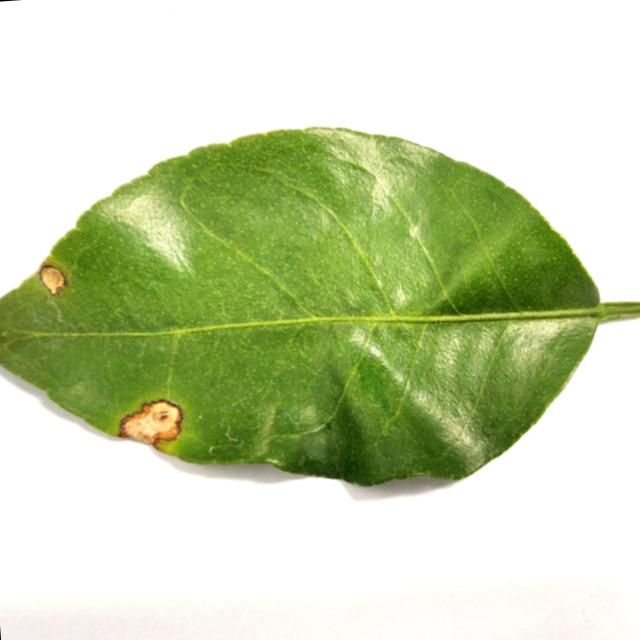antracnose: (0, 128, 640, 485), (120, 400, 182, 445), (40, 265, 67, 295)
